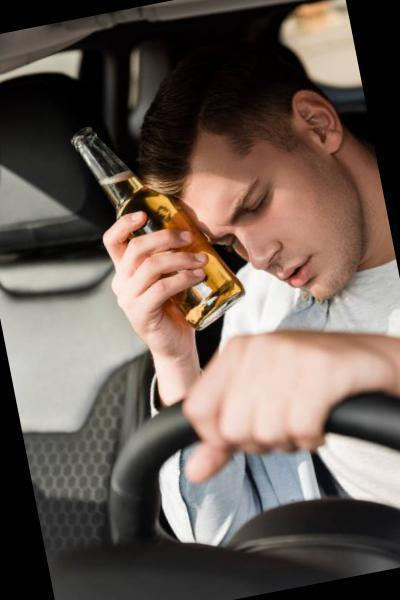Drunk: (187, 149, 355, 298)
